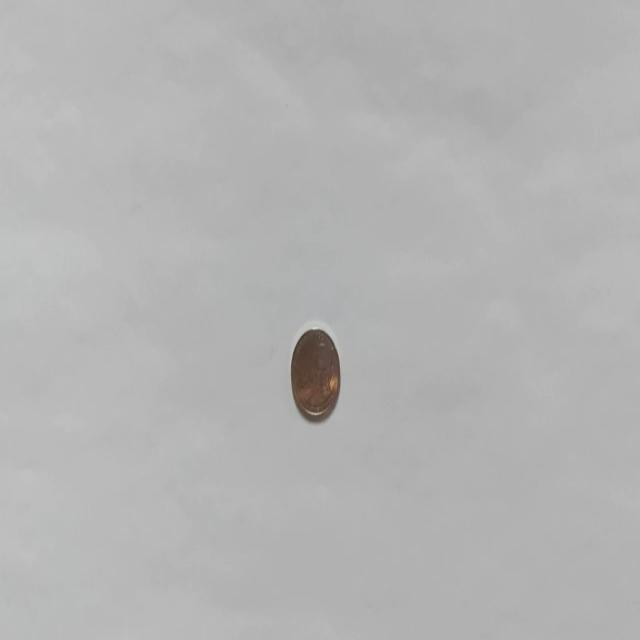seribu rupiah koin: (289, 323, 341, 421)
